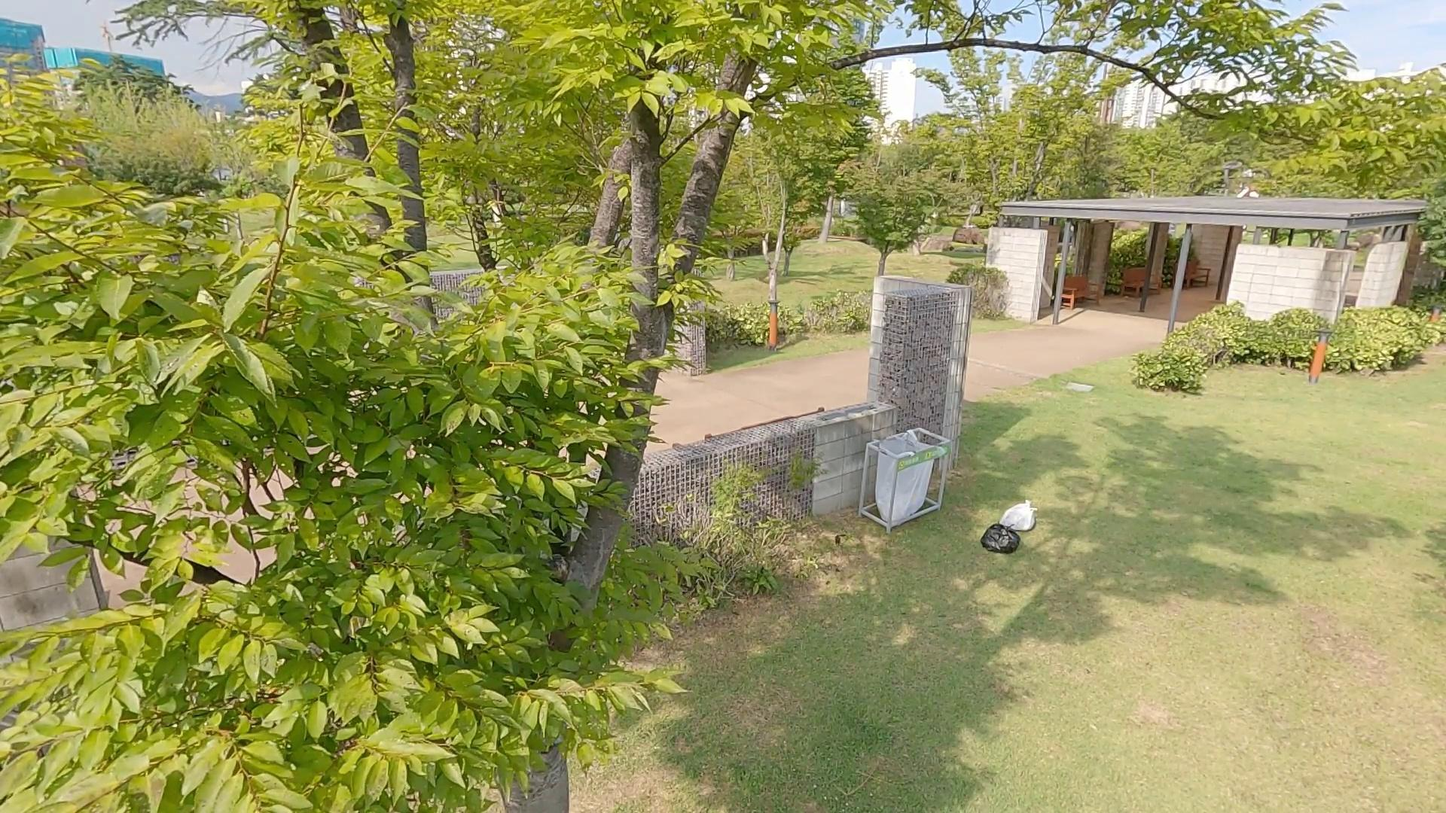trash: (979, 519, 1022, 556), (1000, 497, 1040, 536)
